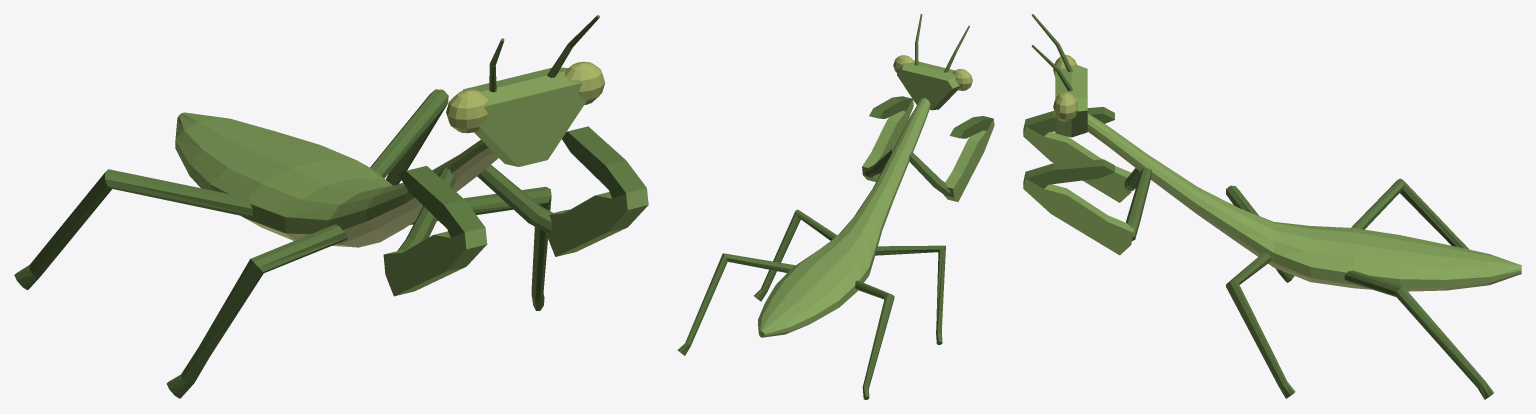
3 renders of one model, left to right at view 1: azimuth 30°, elevation 25°; view 2: azimuth 150°, elevation 25°; view 3: azimuth 270°, elevation 25°, orthographic. The views are drawn at different scales.
Parts seen in each view (by area): view 1: ContinuousRaisedThoraxAndBroadAbdomen, WholeTriangularHeadCapsule, LeftWholeFoldedFemurAndReturningTibia, RightWholeFoldedFemurAndReturningTibia, LeftRearWholeWalkingLegAndFlatToe, LeftMiddleWholeWalkingLegAndFlatToe, RightRearWholeWalkingLegAndFlatToe, RightMiddleWholeWalkingLegAndFlatToe, RightLongFrontCoxa, LeftBroadCornerEye, RightBroadCornerEye, LeftLongFrontCoxa; view 2: ContinuousRaisedThoraxAndBroadAbdomen, LeftWholeFoldedFemurAndReturningTibia, WholeTriangularHeadCapsule, RightWholeFoldedFemurAndReturningTibia, RightRearWholeWalkingLegAndFlatToe, LeftMiddleWholeWalkingLegAndFlatToe, LeftRearWholeWalkingLegAndFlatToe, RightMiddleWholeWalkingLegAndFlatToe, LeftLongFrontCoxa, LeftBroadCornerEye, RightLongFrontCoxa; view 3: ContinuousRaisedThoraxAndBroadAbdomen, RightWholeFoldedFemurAndReturningTibia, LeftWholeFoldedFemurAndReturningTibia, RightRearWholeWalkingLegAndFlatToe, RightMiddleWholeWalkingLegAndFlatToe, LeftRearWholeWalkingLegAndFlatToe, WholeTriangularHeadCapsule, RightLongFrontCoxa, RightBroadCornerEye, LeftMiddleWholeWalkingLegAndFlatToe.
Part boxes in pixels (box(x1,y1,x2,y2)): ContinuousRaisedThoraxAndBroadAbdomen: box(175, 112, 498, 247); WholeTriangularHeadCapsule: box(463, 67, 586, 166); LeftWholeFoldedFemurAndReturningTibia: box(383, 165, 487, 296); RightWholeFoldedFemurAndReturningTibia: box(546, 126, 648, 256); LeftRearWholeWalkingLegAndFlatToe: box(14, 169, 252, 290); LeftMiddleWholeWalkingLegAndFlatToe: box(166, 224, 348, 398); RightRearWholeWalkingLegAndFlatToe: box(370, 89, 448, 185); RightMiddleWholeWalkingLegAndFlatToe: box(410, 186, 551, 310); RightLongFrontCoxa: box(477, 165, 553, 233); LeftBroadCornerEye: box(446, 89, 488, 133); RightBroadCornerEye: box(565, 61, 605, 104); LeftLongFrontCoxa: box(397, 167, 456, 250); ContinuousRaisedThoraxAndBroadAbdomen: box(758, 98, 930, 337); LeftWholeFoldedFemurAndReturningTibia: box(944, 116, 994, 201); WholeTriangularHeadCapsule: box(897, 60, 959, 110); RightWholeFoldedFemurAndReturningTibia: box(862, 96, 913, 181); RightRearWholeWalkingLegAndFlatToe: box(677, 253, 795, 355); LeftMiddleWholeWalkingLegAndFlatToe: box(875, 245, 945, 344); LeftRearWholeWalkingLegAndFlatToe: box(855, 280, 894, 399); RightMiddleWholeWalkingLegAndFlatToe: box(754, 209, 837, 301); LeftLongFrontCoxa: box(909, 152, 950, 196); LeftBroadCornerEye: box(952, 69, 972, 90); RightLongFrontCoxa: box(865, 148, 893, 177); ContinuousRaisedThoraxAndBroadAbdomen: box(1087, 113, 1521, 291); RightWholeFoldedFemurAndReturningTibia: box(1023, 159, 1133, 255); LeftWholeFoldedFemurAndReturningTibia: box(1023, 107, 1131, 202); RightRearWholeWalkingLegAndFlatToe: box(1344, 270, 1493, 399); RightMiddleWholeWalkingLegAndFlatToe: box(1226, 252, 1295, 398); LeftRearWholeWalkingLegAndFlatToe: box(1351, 178, 1469, 249); WholeTriangularHeadCapsule: box(1055, 64, 1087, 137); RightLongFrontCoxa: box(1126, 167, 1151, 240); RightBroadCornerEye: box(1053, 92, 1077, 121); LeftMiddleWholeWalkingLegAndFlatToe: box(1226, 185, 1294, 282).
Bounding box in the file's own units: 1.28 × 1.49 × 2.17.
